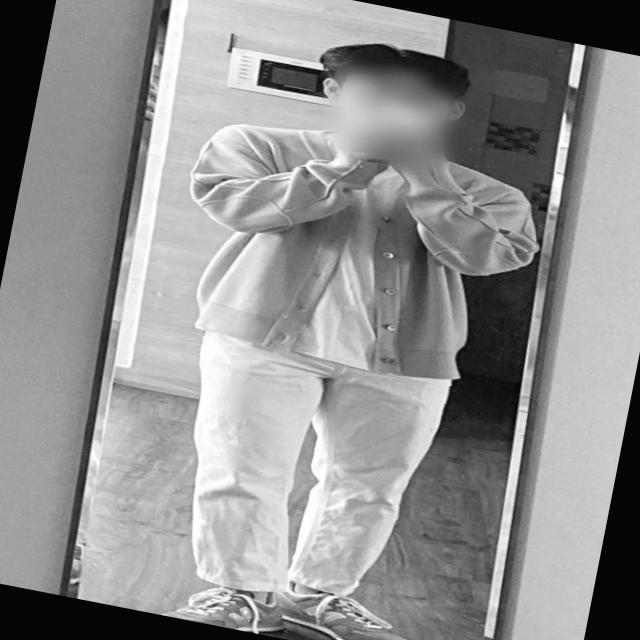cardigan: (165, 104, 556, 400)
cottonpants: (152, 323, 458, 626)
